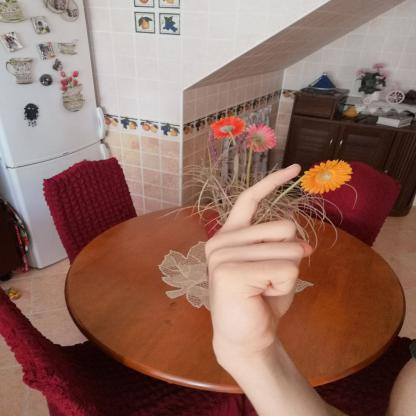RAA: (195, 157, 313, 365)
